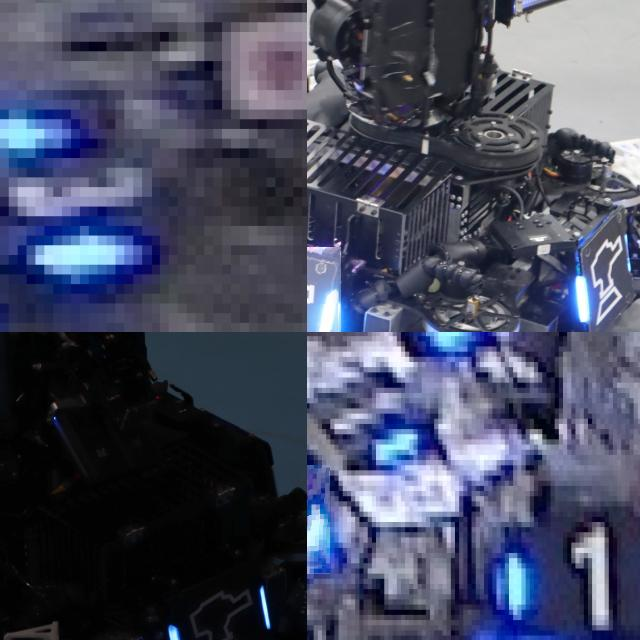B1: (500, 521, 640, 630), (307, 465, 330, 573)
Bs: (165, 578, 274, 640), (573, 222, 631, 332)
